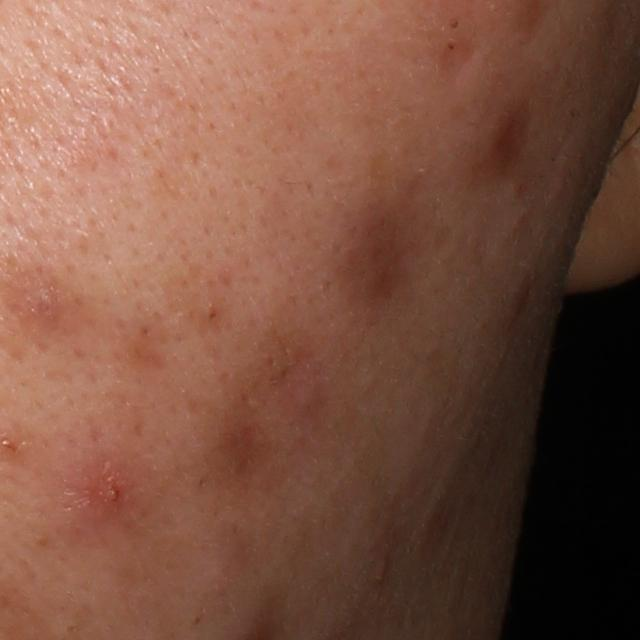atrophic_scar: (485, 101, 533, 181), (231, 428, 283, 487), (436, 33, 481, 88)
